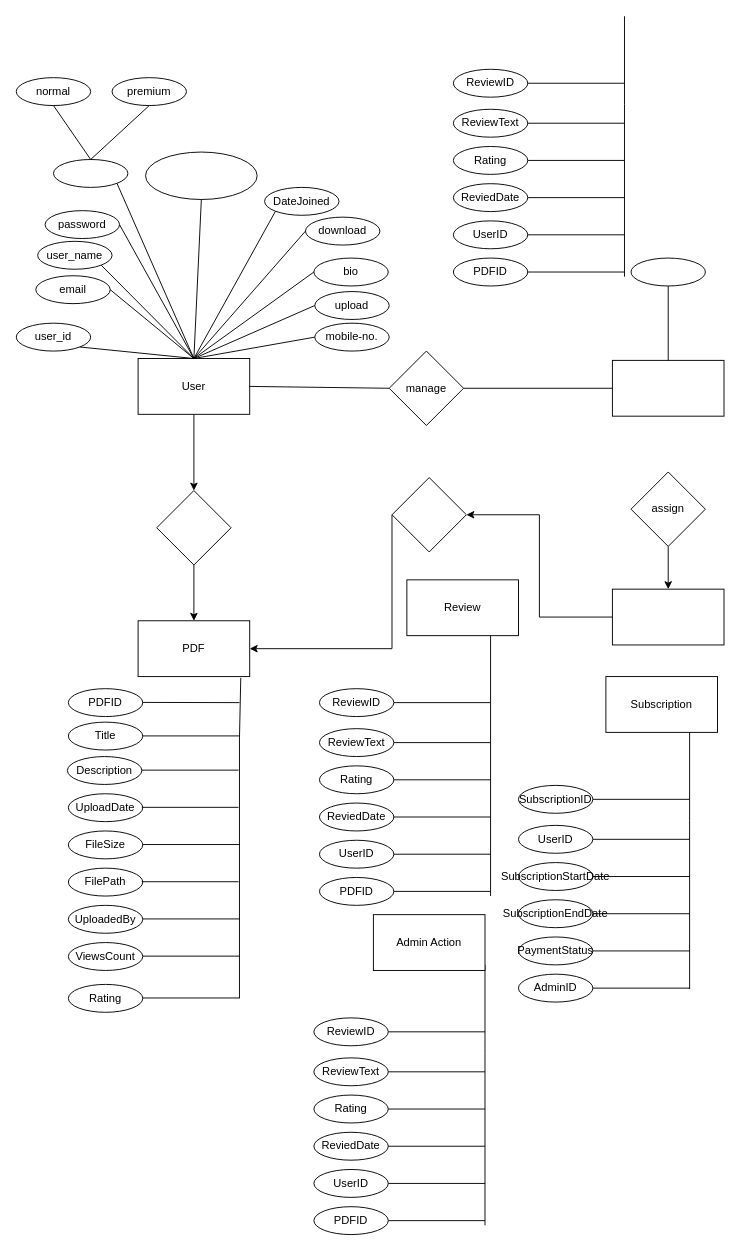
The diagram is 740 pixels wide and 1251 high, and some of its shapes have lost their labels. The shapes that lost their labels are listed below. From the top down, each one's centre as x and y in pixels, then its label:
point (90, 173): Role
point (201, 175): SubscriptionStatuse
point (667, 271): admin_id
point (667, 387): Admin
point (193, 527): uploads
point (428, 514): verifies
point (667, 616): Authenticator
